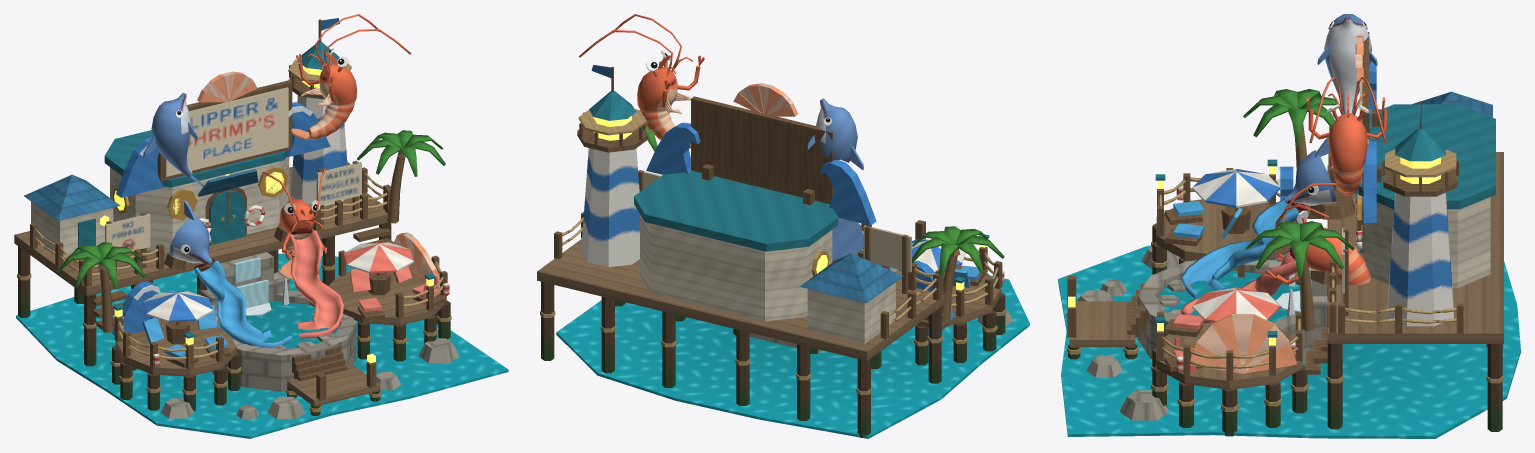
Rendered from flipper-shrimp.glb.
The picture shows the model from 3 angles, left to right: view 1: azimuth 30°, elevation 25°; view 2: azimuth 150°, elevation 25°; view 3: azimuth 270°, elevation 25°; orthographic projection. The views are drawn at different scales.
Parts seen in each view (by area): view 1: flipper-shrimp; view 2: flipper-shrimp; view 3: flipper-shrimp.
Part boxes in pixels (left/top/right/bottom): flipper-shrimp: left=14, top=14, right=508, bottom=438; flipper-shrimp: left=537, top=14, right=1029, bottom=438; flipper-shrimp: left=1058, top=14, right=1520, bottom=438.
Bounding box in the file's own units: 0.86 × 0.5955 × 0.7542.
1 material, 1 textured.
